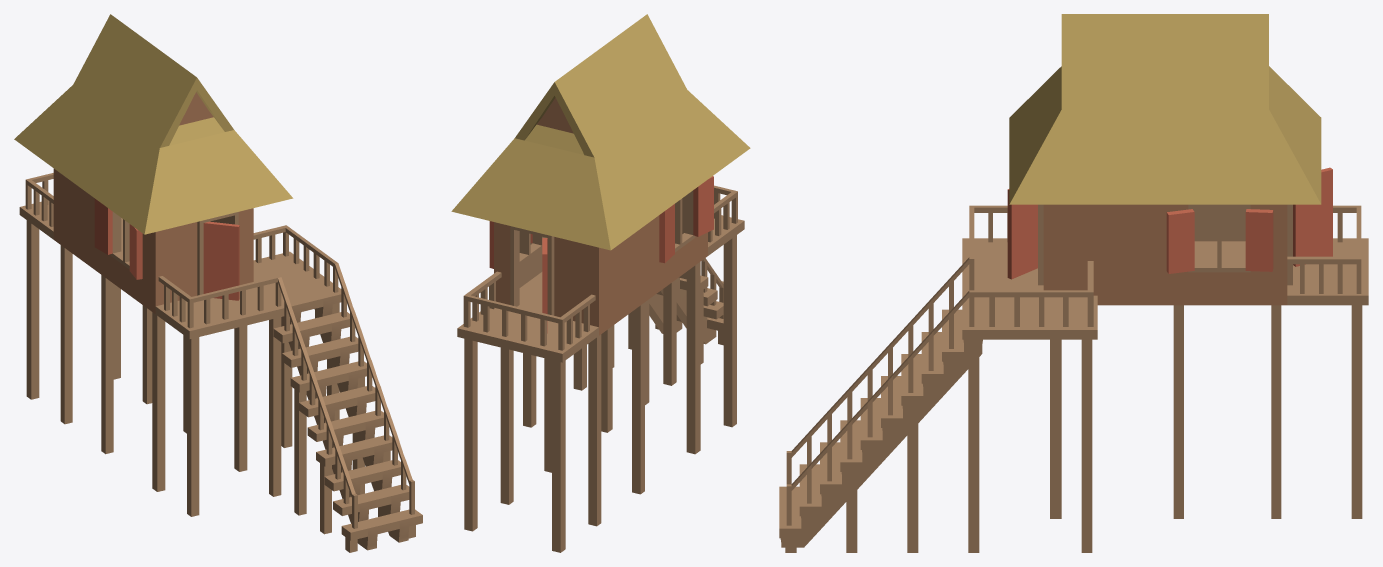
File: HouseStilts.fbx
The picture shows the model from 3 angles, left to right: view 1: azimuth 30°, elevation 25°; view 2: azimuth 150°, elevation 25°; view 3: azimuth 270°, elevation 25°; orthographic projection. The views are drawn at different scales.
Visible parts, largest first — view 1: polySurface40; view 2: polySurface40; view 3: polySurface40.
Boxes of the visible parts, left/top/right/bottom form: polySurface40: left=14, top=14, right=422, bottom=552; polySurface40: left=451, top=14, right=750, bottom=552; polySurface40: left=779, top=14, right=1368, bottom=552.
Bounding box in the file's own units: 18.6 × 39 × 43.5.
